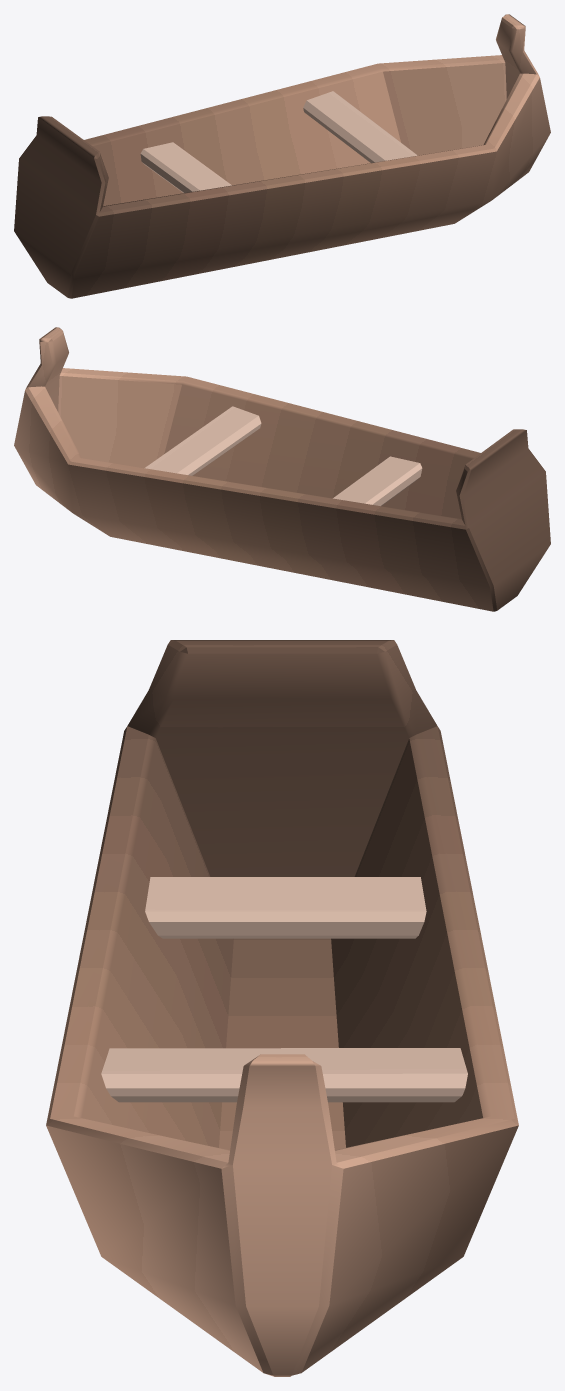
Rendered from SM_Canoe.fbx.
3 renders of one model, top to bottom at view 1: azimuth 30°, elevation 25°; view 2: azimuth 150°, elevation 25°; view 3: azimuth 270°, elevation 25°, orthographic. The views are drawn at different scales.
Visible parts, largest first — view 1: Canoe; view 2: Canoe; view 3: Canoe.
Part boxes in pixels (box(x1,y1,x2,y2)): Canoe: box(14, 14, 550, 298); Canoe: box(14, 327, 550, 611); Canoe: box(46, 640, 518, 1376).
Bounding box in the file's own units: 415 × 138 × 170.
1 material, 1 textured.
